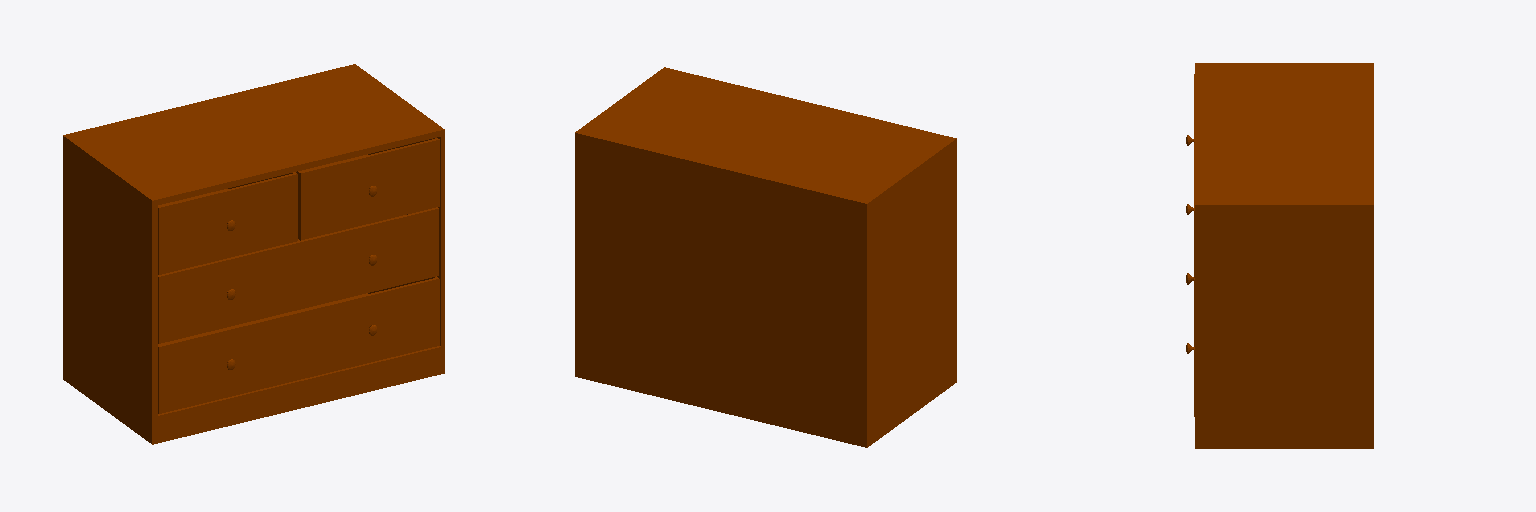
File: chest.obj
3 views of the same model, side by side, from view 1: azimuth 30°, elevation 25°; view 2: azimuth 150°, elevation 25°; view 3: azimuth 270°, elevation 25° (orthographic).
Visible parts, largest first — view 1: Corps_2, Tiroir_3, Tiroir_1_5, PetitTiroir_1_6, PetitTiroir_4; view 2: Corps_2; view 3: Corps_2.
Boxes of the visible parts, <box> form: Corps_2: <box>63,64,444,444</box>; Tiroir_3: <box>158,276,439,413</box>; Tiroir_1_5: <box>158,207,438,343</box>; PetitTiroir_1_6: <box>296,138,439,240</box>; PetitTiroir_4: <box>158,172,297,274</box>; Corps_2: <box>575,67,956,447</box>; Corps_2: <box>1195,63,1373,448</box>.
Bounding box in the file's own units: 100 × 80.01 × 55.88.